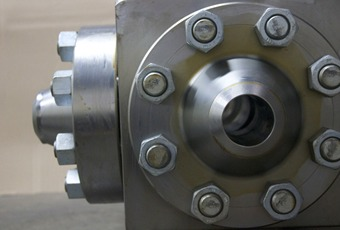bolt_b: (187, 181, 231, 226), (132, 62, 178, 105), (260, 179, 304, 223), (135, 134, 179, 178), (254, 5, 297, 49), (183, 8, 224, 54), (307, 51, 338, 98), (308, 125, 338, 170)
bolt_c: (49, 69, 74, 107), (53, 130, 79, 165), (54, 28, 78, 62), (62, 168, 87, 200)
